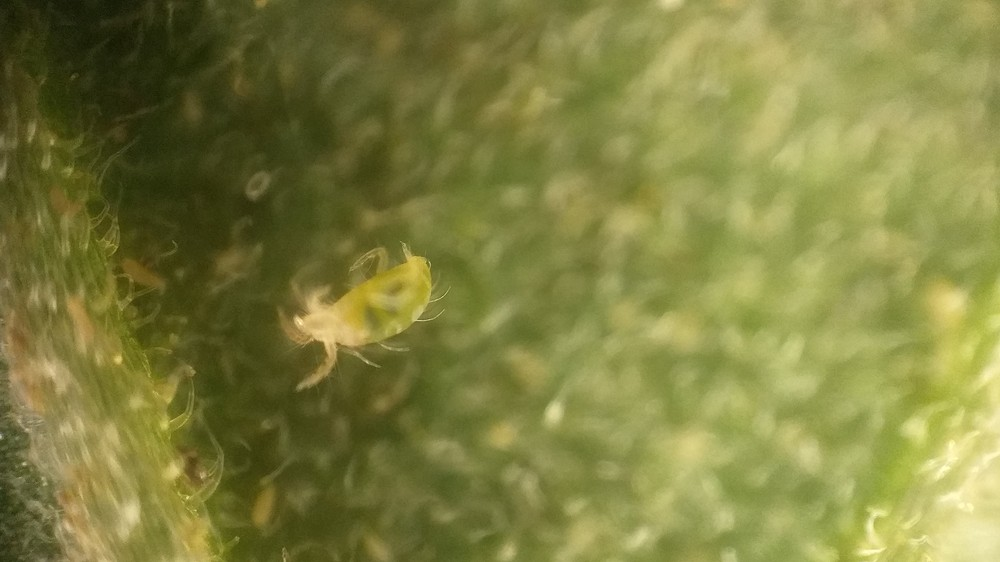Aracnido Rojo: (262, 237, 457, 392)
